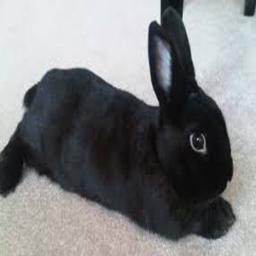rabbit: (0, 5, 234, 239)
